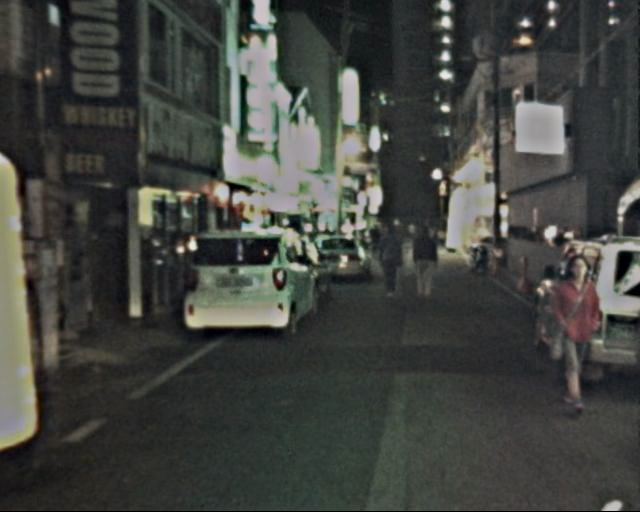person: (538, 257, 611, 415), (411, 224, 446, 301), (376, 224, 410, 299)
